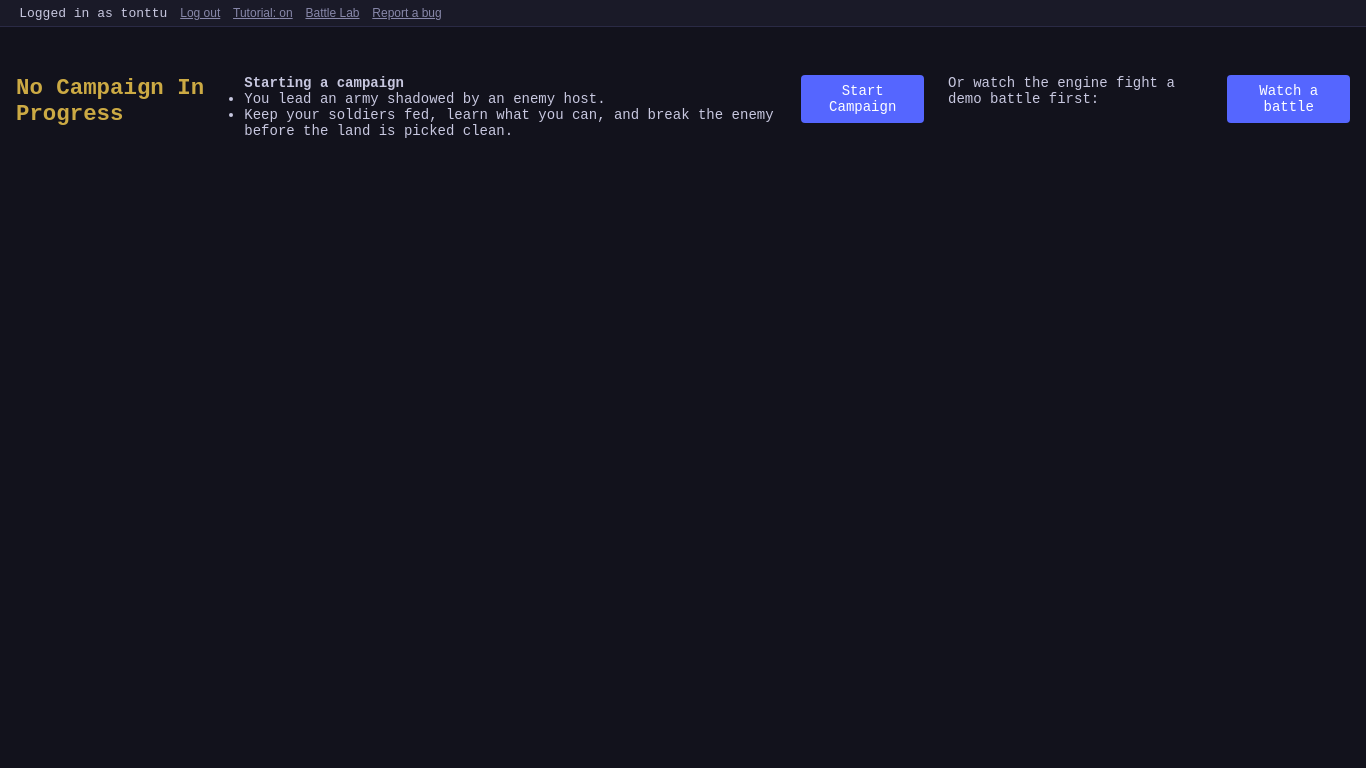
Test: the lab door › opens with no campaign in progress, and leaving lands back where it was
This screenshot has width=1366, height=768.
Click the button with test id "open-lab": click(332, 13) [306,6,360,20]
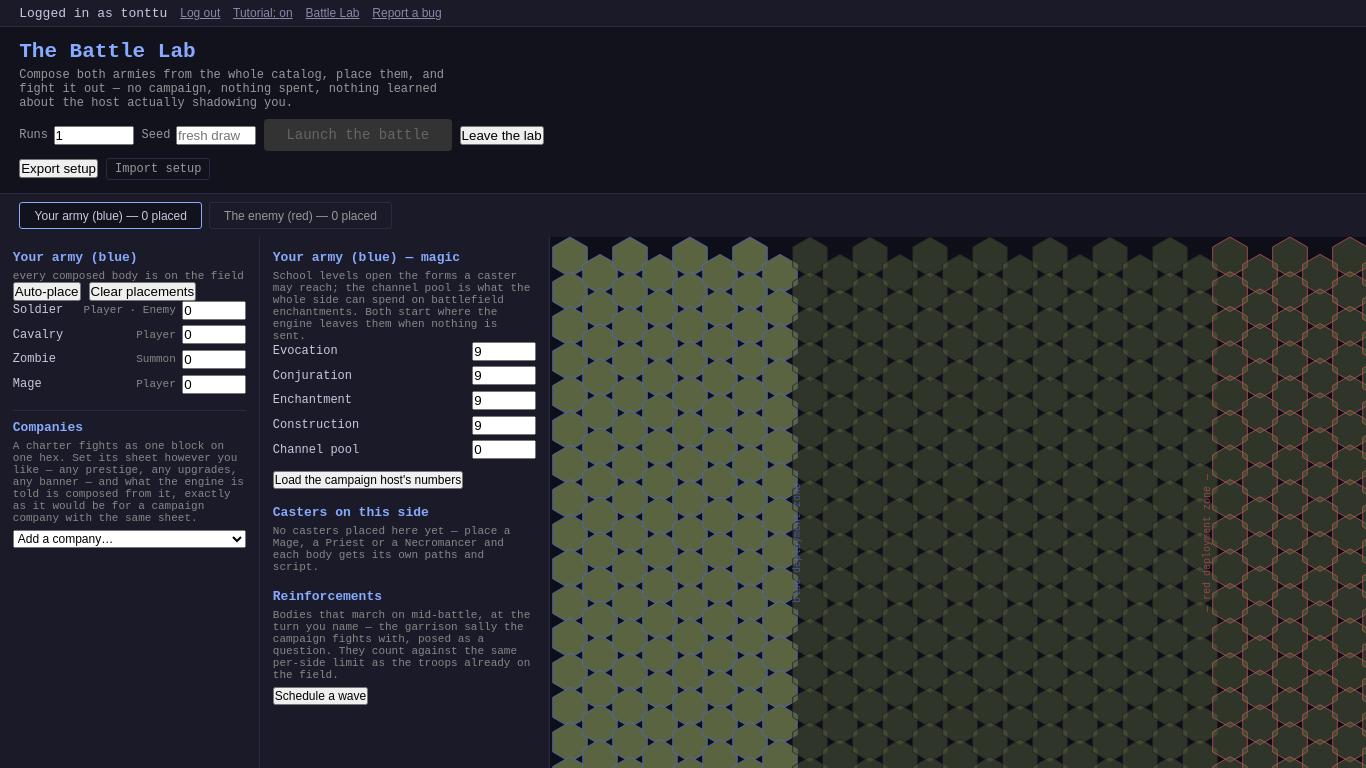
Result: the element with test id "lab-palette" is shown at [0,237,260,767]
Result: the heading "The Battle Lab" is shown at [19,40,196,63]
Click the button with test id "lab-back": click(502, 135) [460,126,544,145]
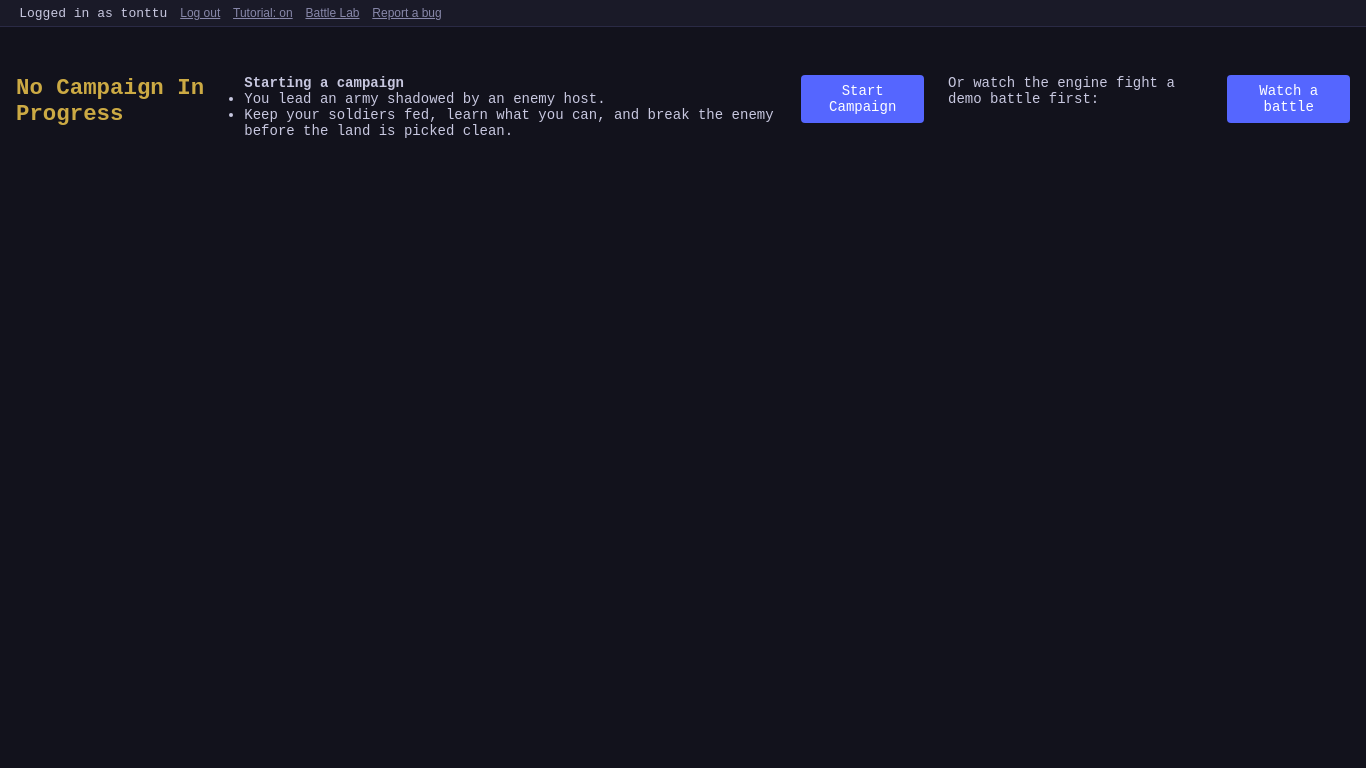
Result: the heading "No Campaign In Progress" is shown at [16,75,220,127]
